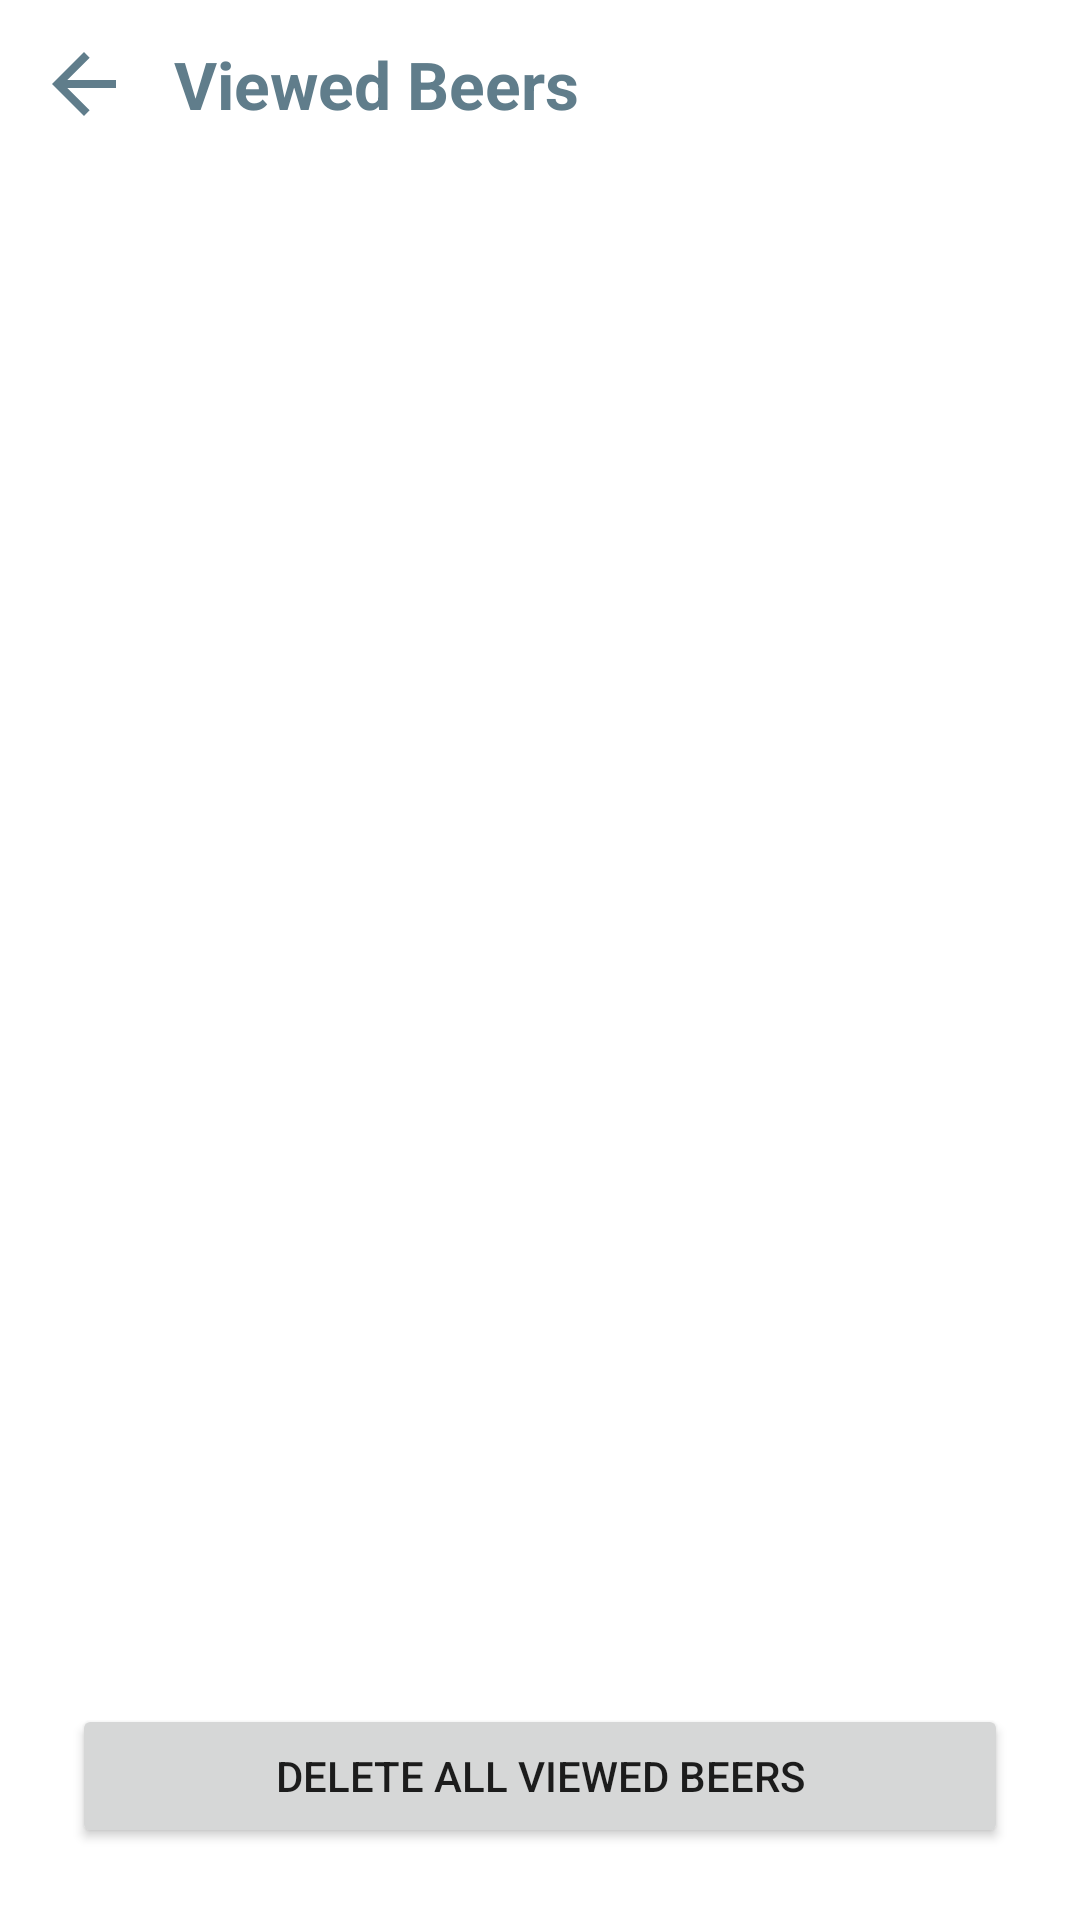

Locate icon controls on the screen. Image size 1080 x 1920, boxes as (x1, y1, x2, y2).
arrow back: (52, 52, 116, 116)
